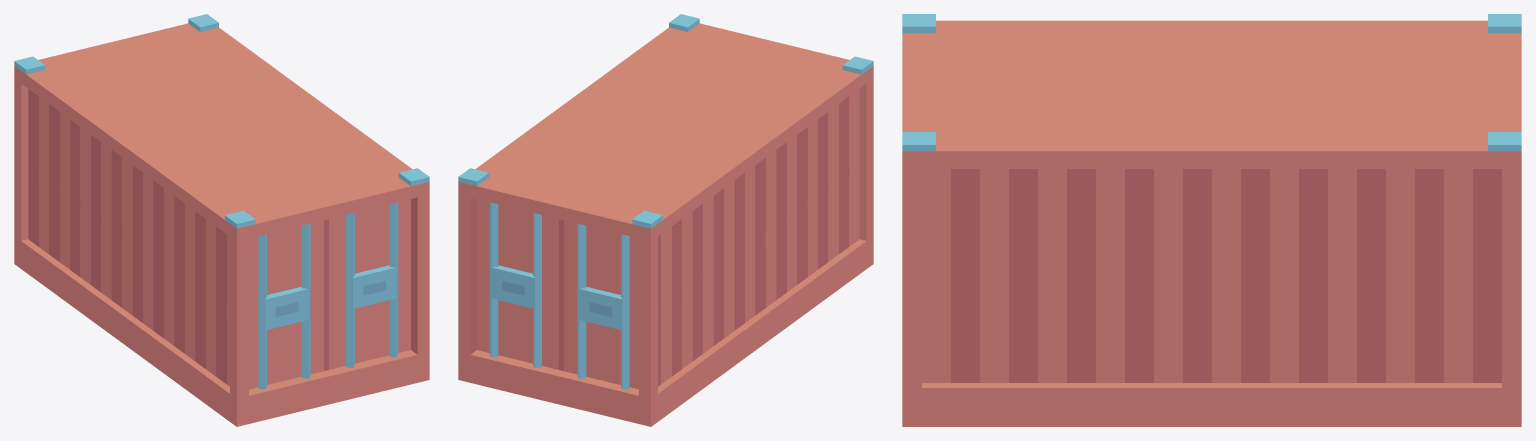
Rendered from container-c.glb.
3 renders of one model, left to right at view 1: azimuth 30°, elevation 25°; view 2: azimuth 150°, elevation 25°; view 3: azimuth 270°, elevation 25°, orthographic. The views are drawn at different scales.
Parts seen in each view (by area): view 1: shippingContainer-cherry; view 2: shippingContainer-cherry; view 3: shippingContainer-cherry.
Boxes of the visible parts, left/top/right/bottom form: shippingContainer-cherry: left=14, top=14, right=429, bottom=426; shippingContainer-cherry: left=458, top=14, right=873, bottom=426; shippingContainer-cherry: left=902, top=14, right=1521, bottom=426.
Size of the model in its own units: 2.5 by 2.51 by 5.
1 material, 1 textured.
